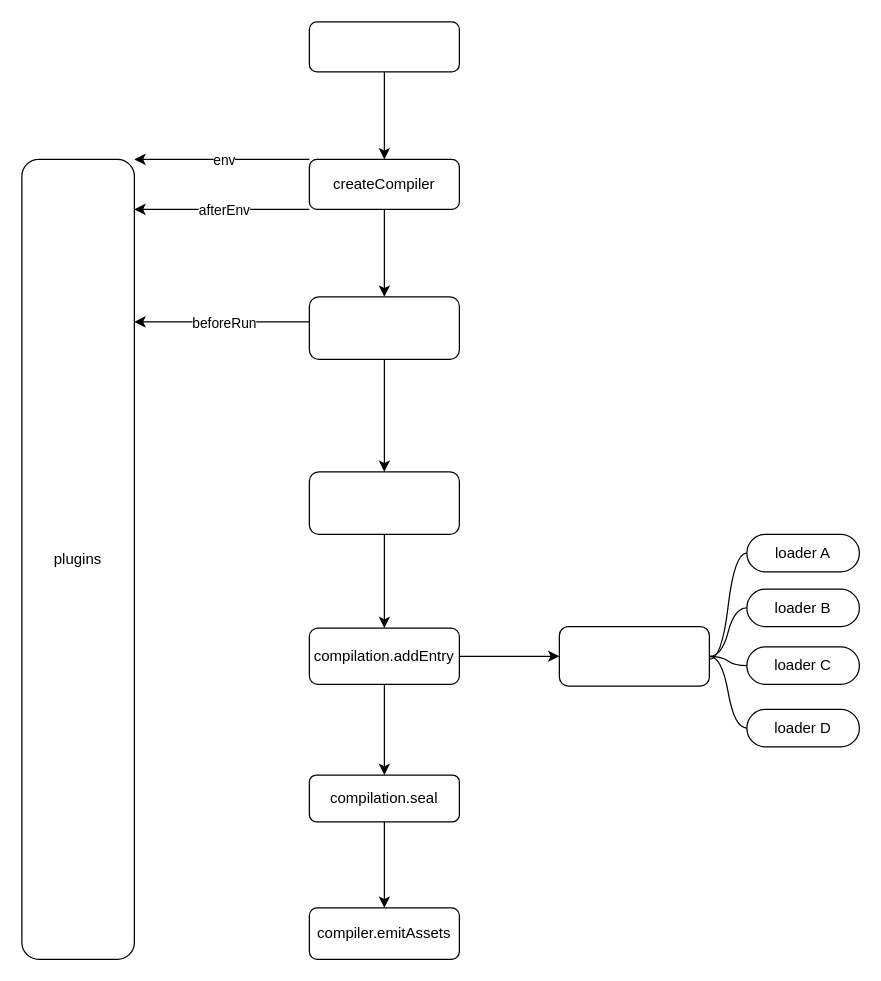
The diagram is 881 pixels wide and 981 high, and some of its shapes have lost their labels. Here are the shapes that lost their labels. From the top down, the box of each, then its label:
(308, 21, 459, 72): new Webpack
(308, 296, 459, 359): compiler.compile
(308, 471, 459, 534): hook:make
(558, 625, 709, 686): loader-runner
